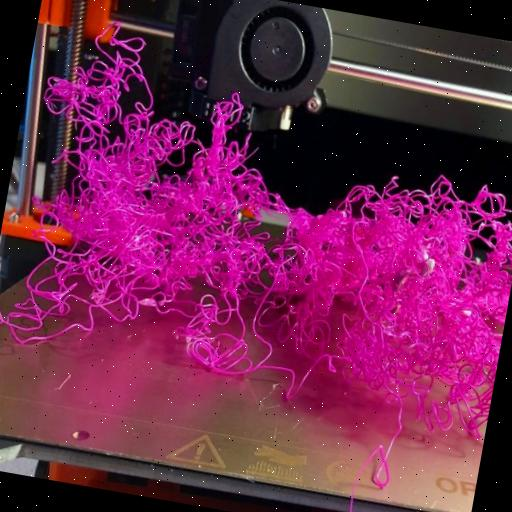spaghetti: (0, 7, 512, 473)
